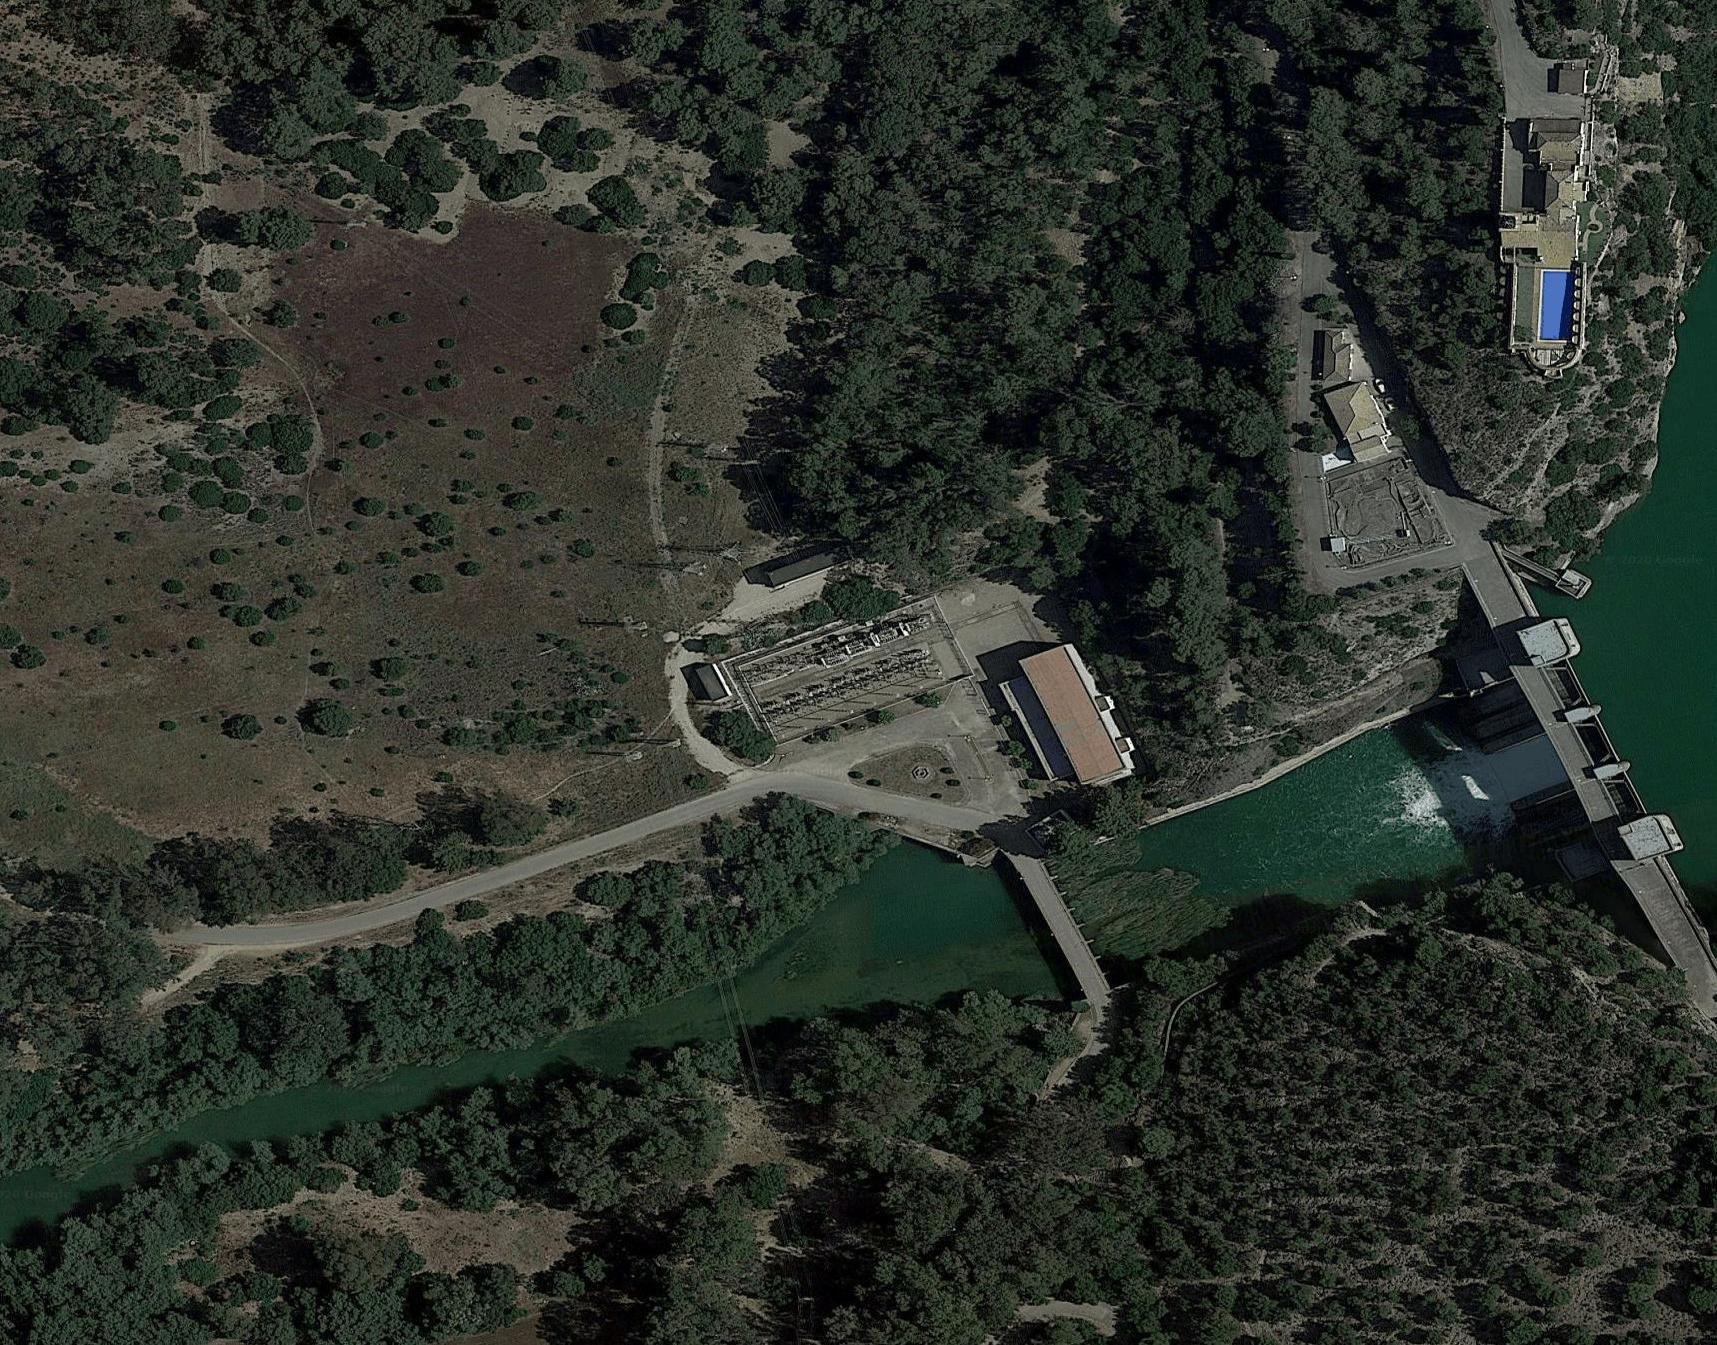substation: (736, 592, 962, 735)
